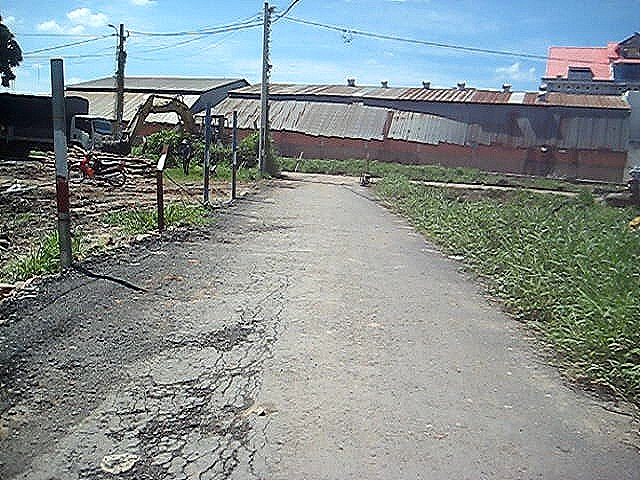hole: (1, 291, 261, 479)
